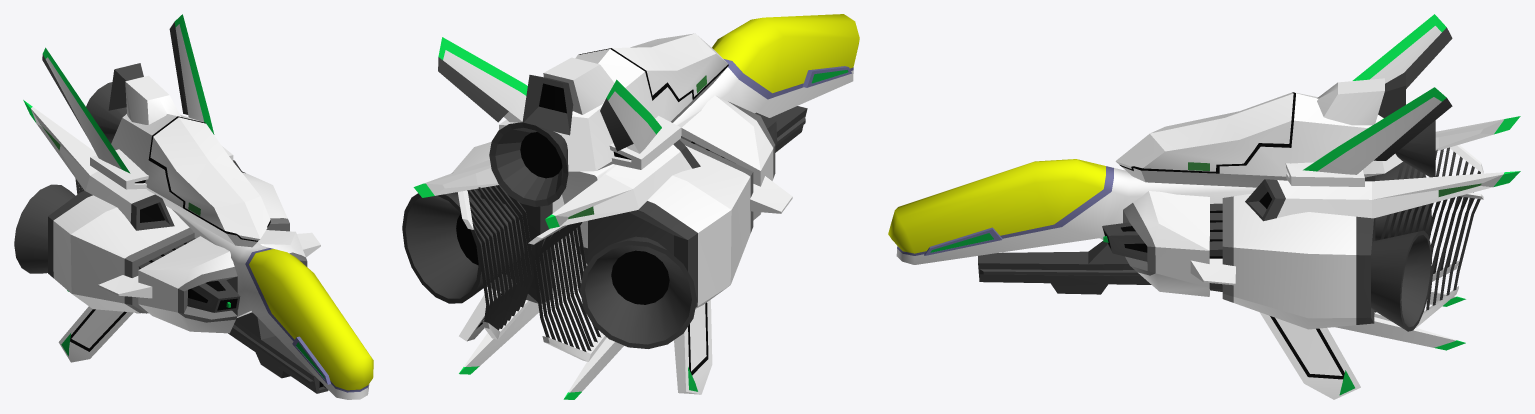
File: player5.glb
3 views of the same model, side by side, from view 1: azimuth 30°, elevation 25°; view 2: azimuth 150°, elevation 25°; view 3: azimuth 270°, elevation 25° (orthographic). The views are drawn at different scales.
Visible parts, largest first — view 1: r-90; view 2: r-90; view 3: r-90.
Part boxes in pixels (box(x1,y1,x2,y2)): r-90: box(14, 14, 373, 399); r-90: box(402, 14, 859, 399); r-90: box(888, 14, 1520, 399).
Size of the model in its own units: 5.1 by 5.81 by 11.03.
1 material, 1 textured.
